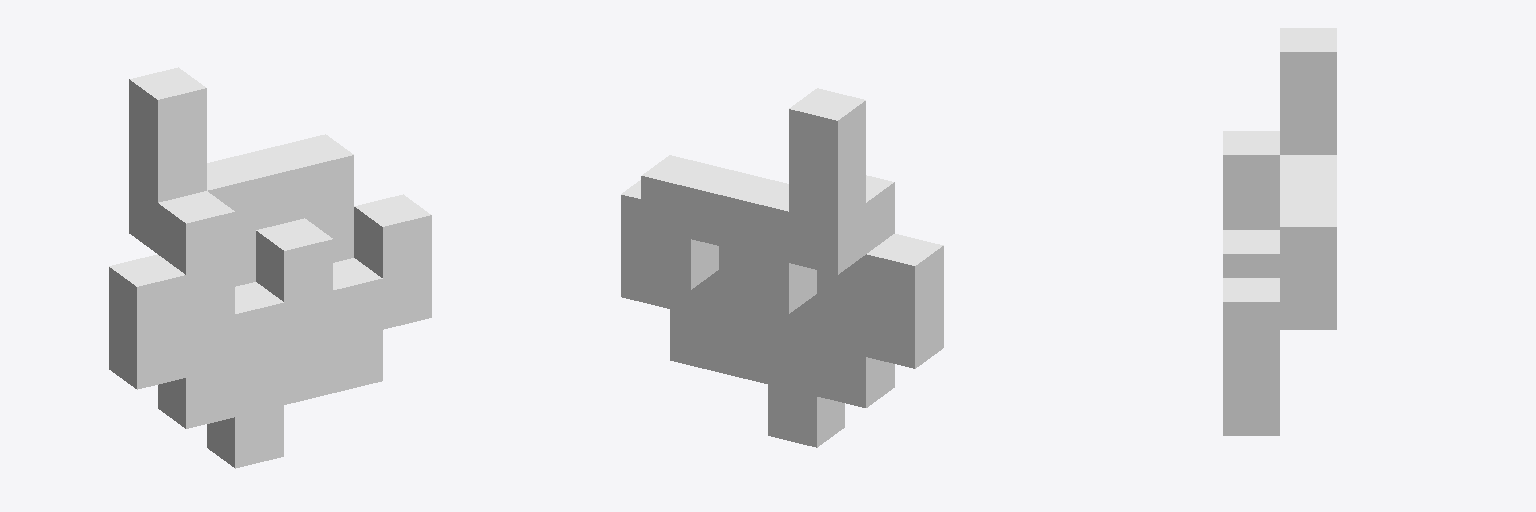
File: YellowHouseParts-80.obj
The picture shows the model from 3 angles: view 1: azimuth 30°, elevation 25°; view 2: azimuth 150°, elevation 25°; view 3: azimuth 270°, elevation 25°; orthographic projection.
Parts seen in each view (by area): view 1: object 1; view 2: object 1; view 3: object 1.
Boxes of the visible parts, x1=… form: object 1: x1=109, y1=67, x2=431, y2=468; object 1: x1=621, y1=88, x2=943, y2=447; object 1: x1=1223, y1=28, x2=1336, y2=435.
Bounding box in the file's own units: 0.6 × 0.7 × 0.2.